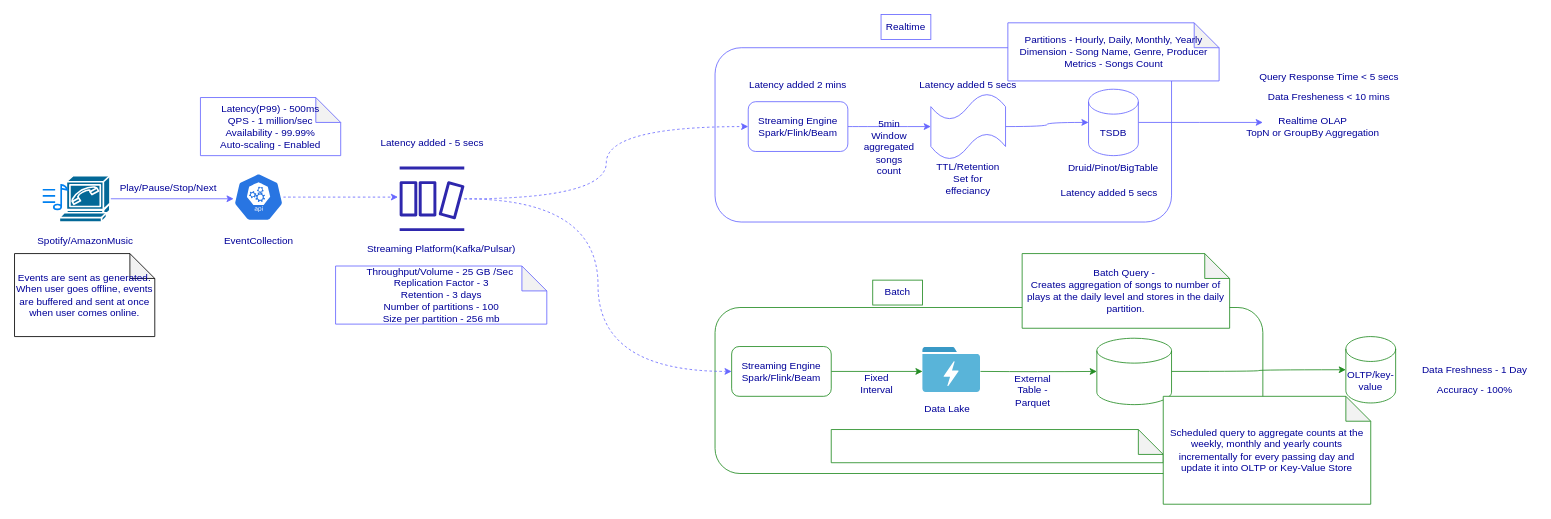
Some shapes in this 1551 by 519 pixel diagram are drawn without their labels. The shapes that lost their labels are listed below. From the top down, each one's centre as x and y in pixels, then its label:
(968,126): Key-Value/Cache
(1134,371): DataWarehouse
(996,446): Partitioned - Hourly, Daily, Monthly, Yearly
